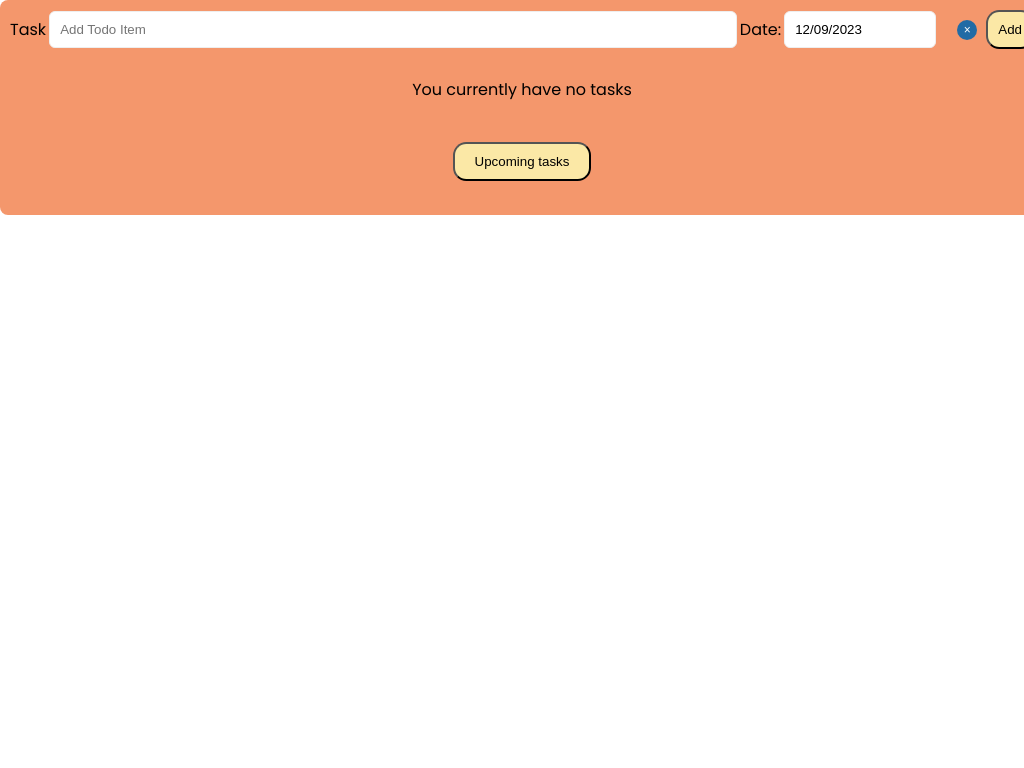
Scenario: TodoItems Component › Checking if appropriate text is displayed when there are no upcoming tasks
Click the button "Upcoming tasks": click(522, 162) [453,142,591,181]
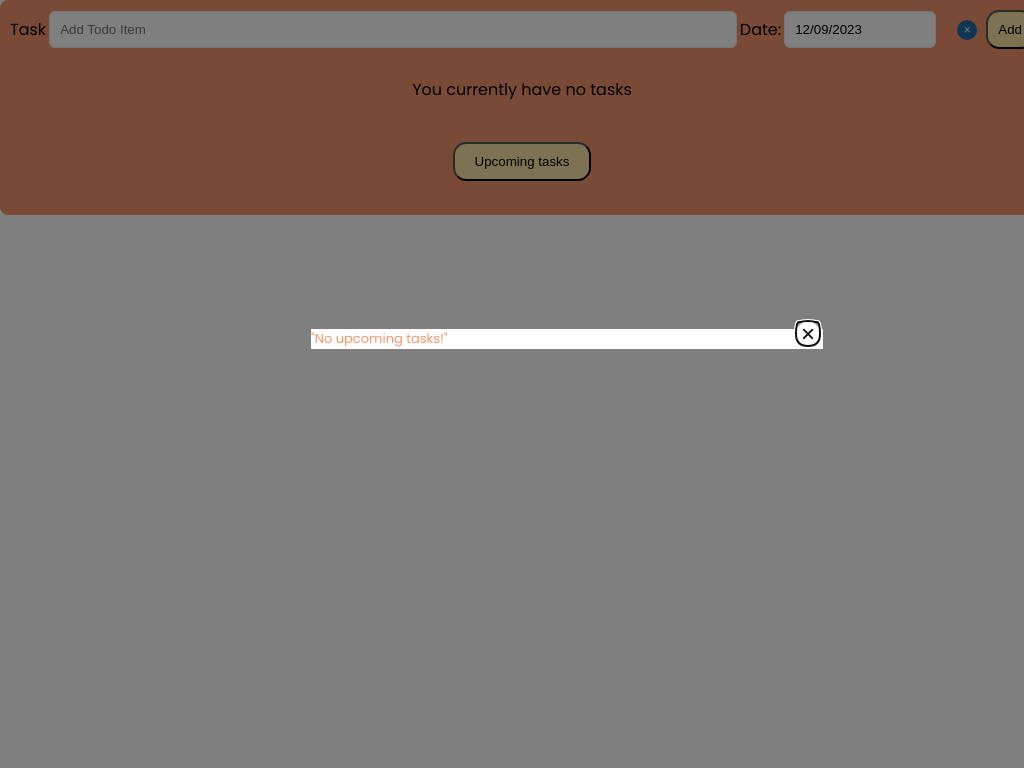
Expected: the number of elements with class "todo-no-upcoming-tasks" is 1, [311,329,823,349]
